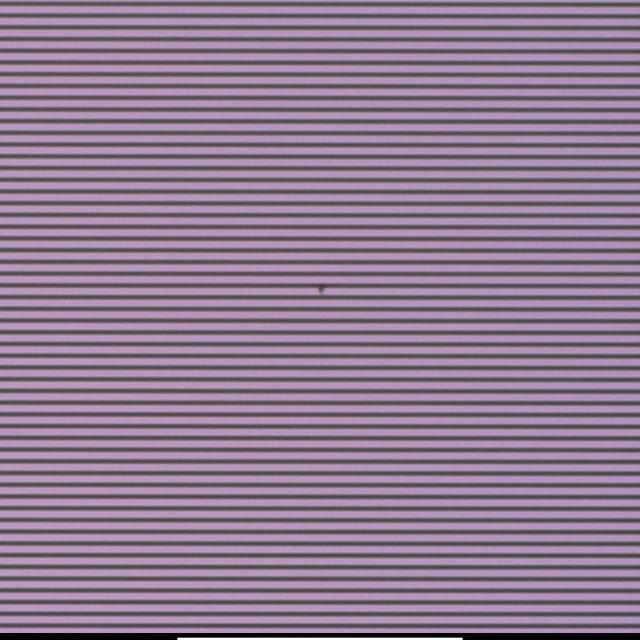03_intrusion: (316, 284, 327, 294)
